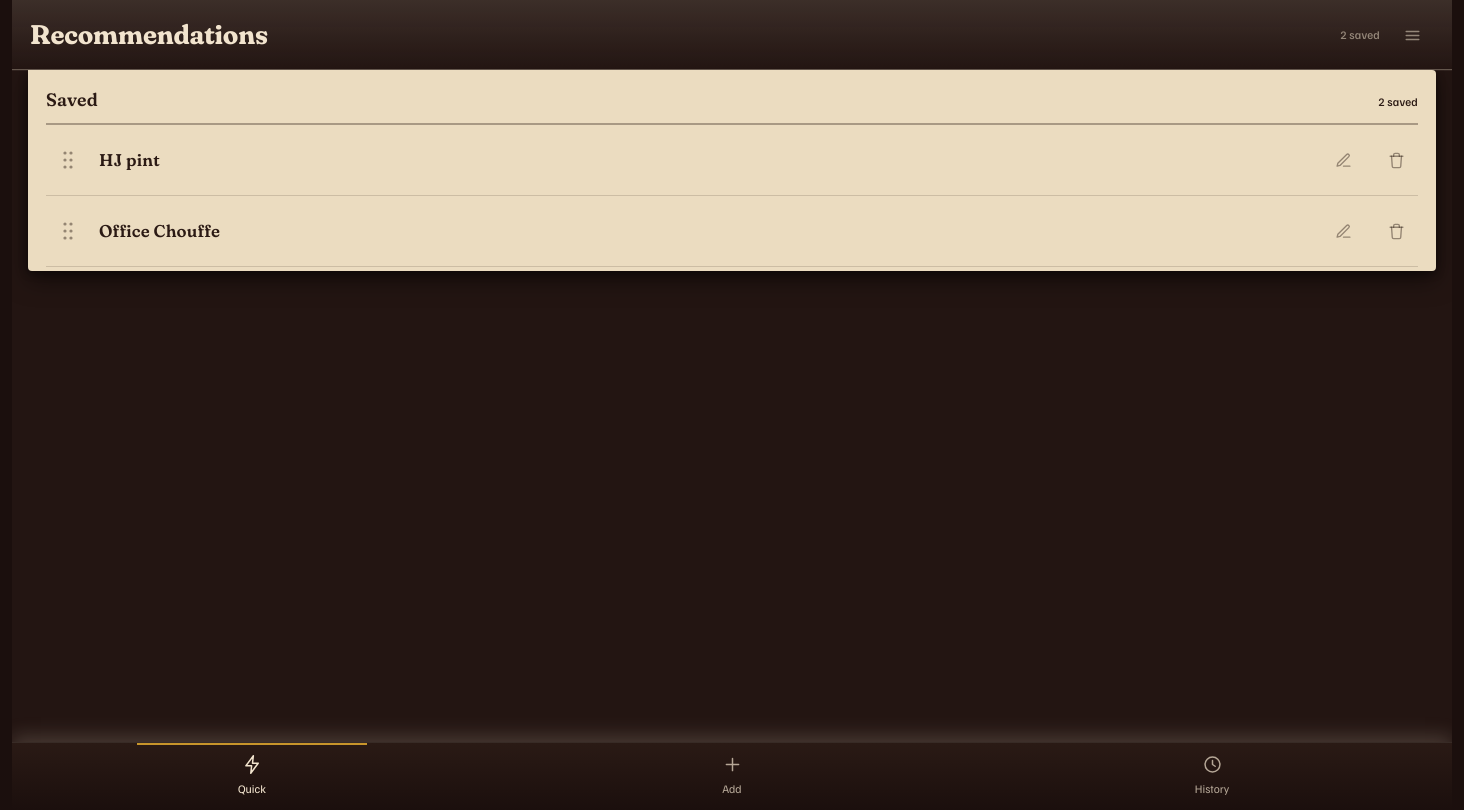
Test: RecommendationsPage › Cancel puts the original name back and clears the bar
Expected: the text "HJ pint" is shown, [99,149,160,170]
Click the button named "Rename HJ pint": (1343, 160) [1321,138,1365,182]
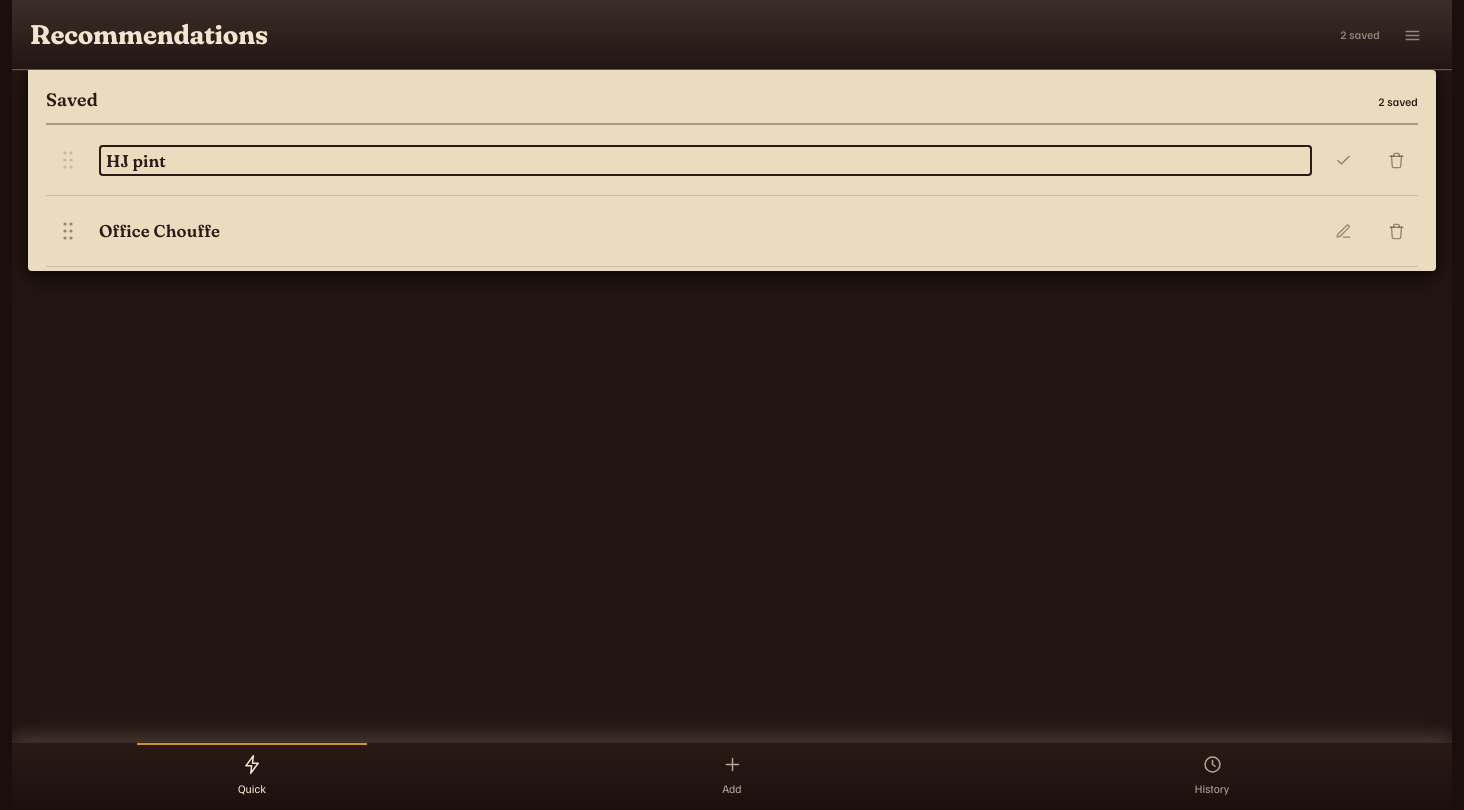
Replace the text in the field with "Home pint": (706, 160) [99,144,1312,176]
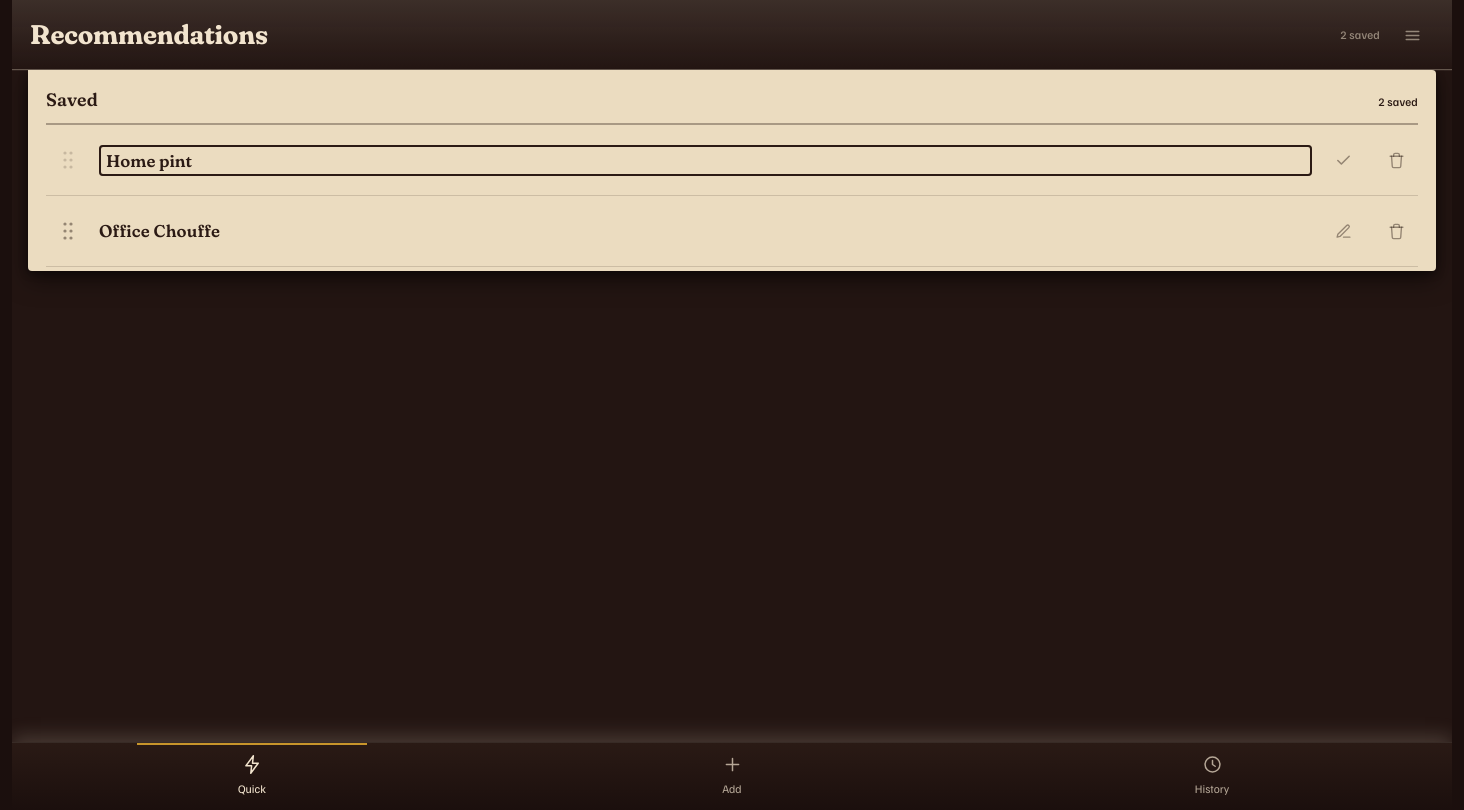
Click the button named "Save name for HJ pint": (1343, 160) [1321,138,1365,182]
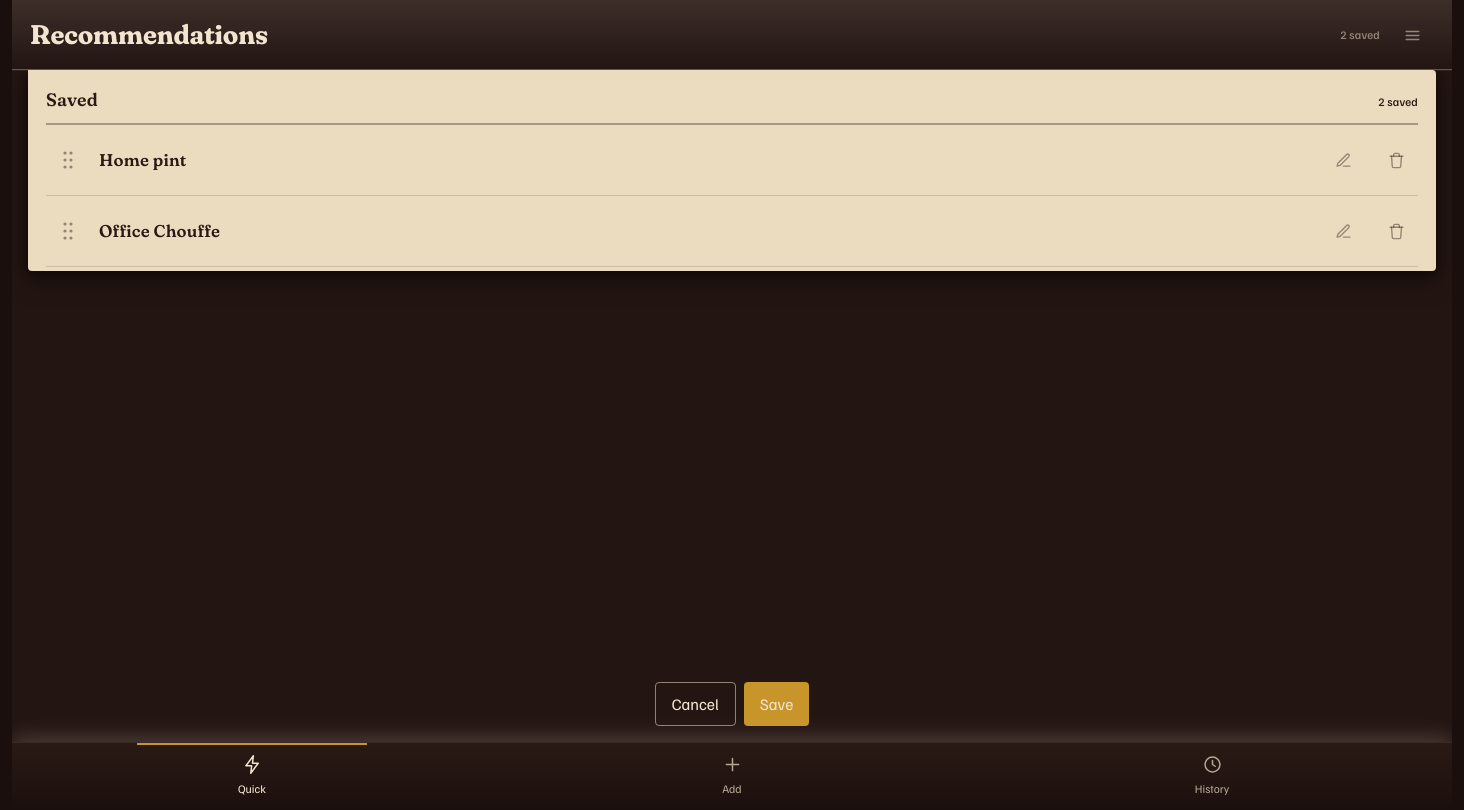
Click the button "Cancel": (695, 704) [655,682,736,726]
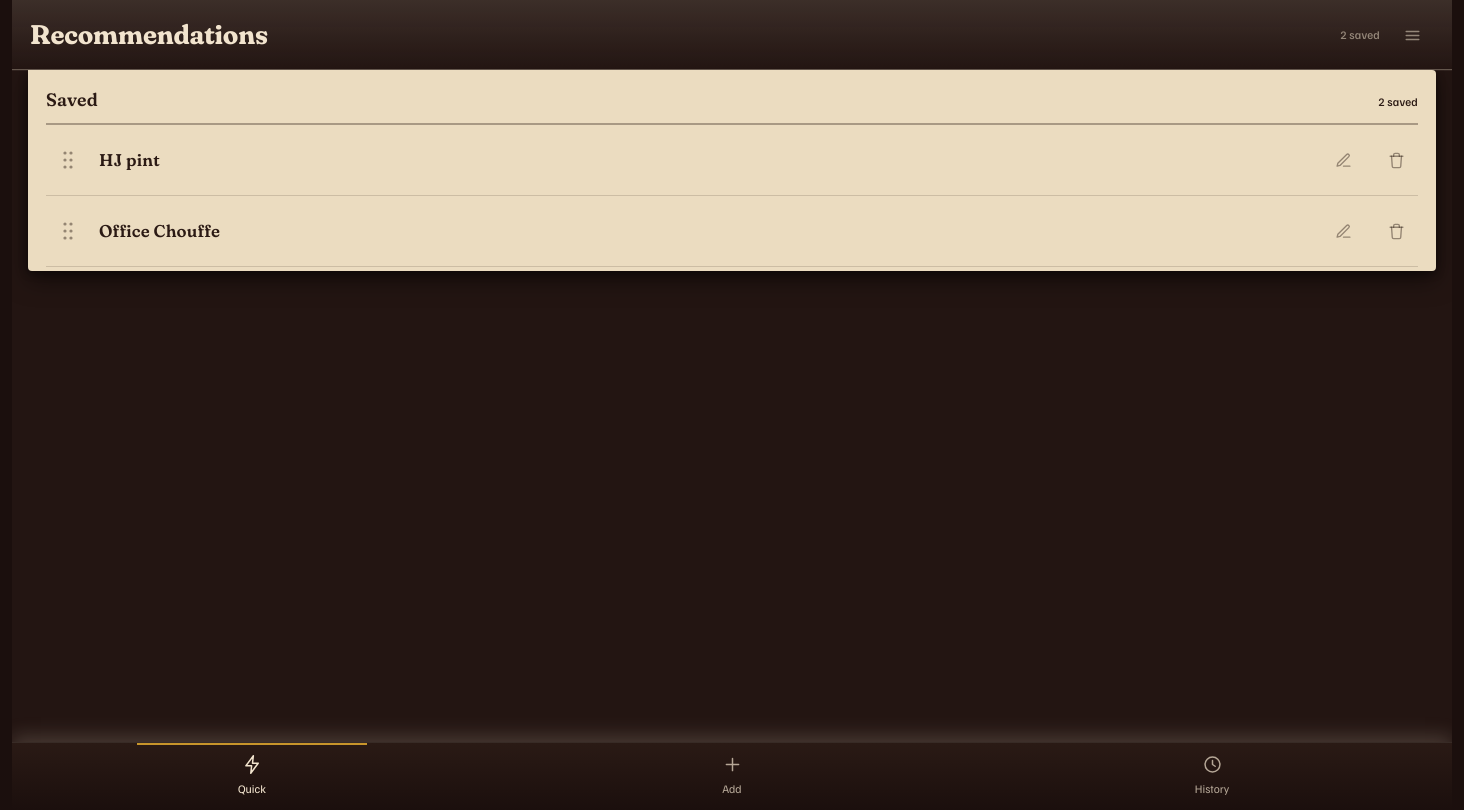
Expected: the text "HJ pint" is shown, [99,149,160,170]
